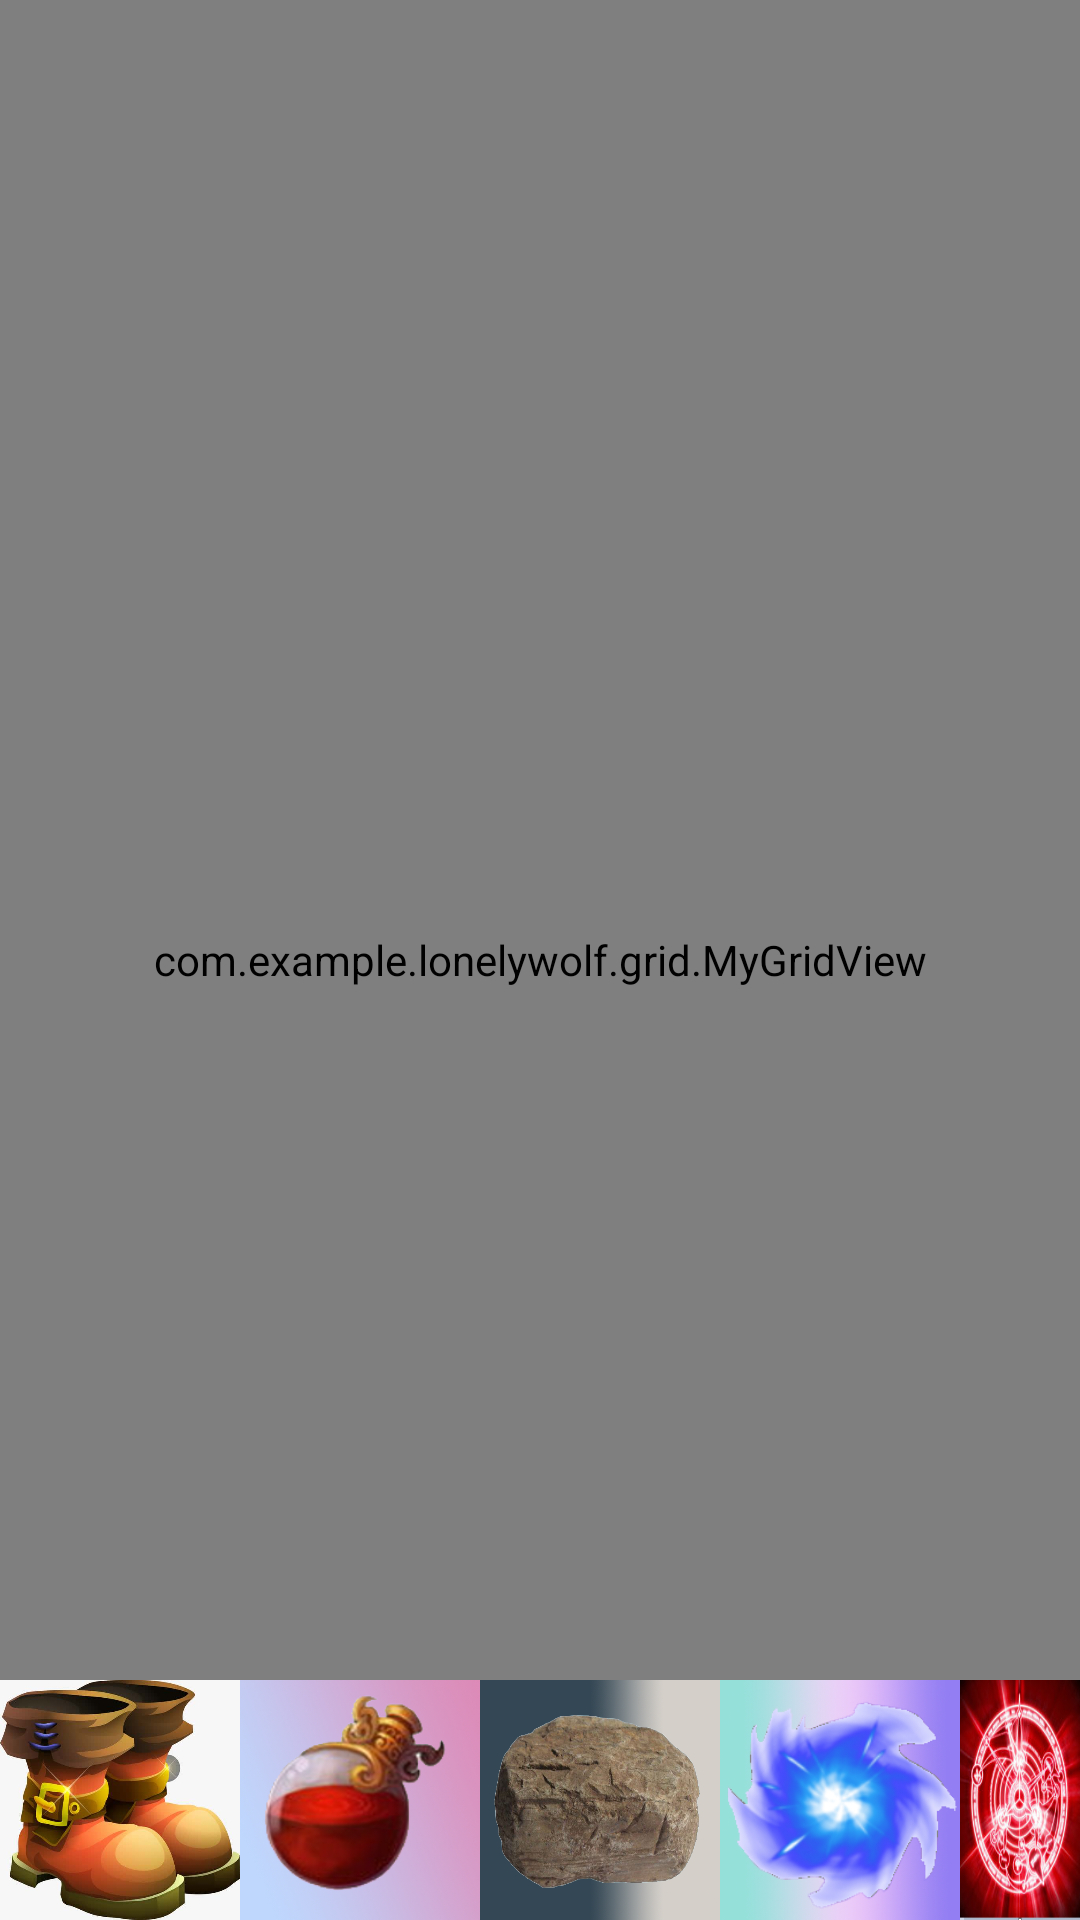

Point at icon controls on the screen. Image size 1080*1920, points as [x,y].
fazhen: [1020,1800]
shoe: [120,1800]
stone: [600,1800]
